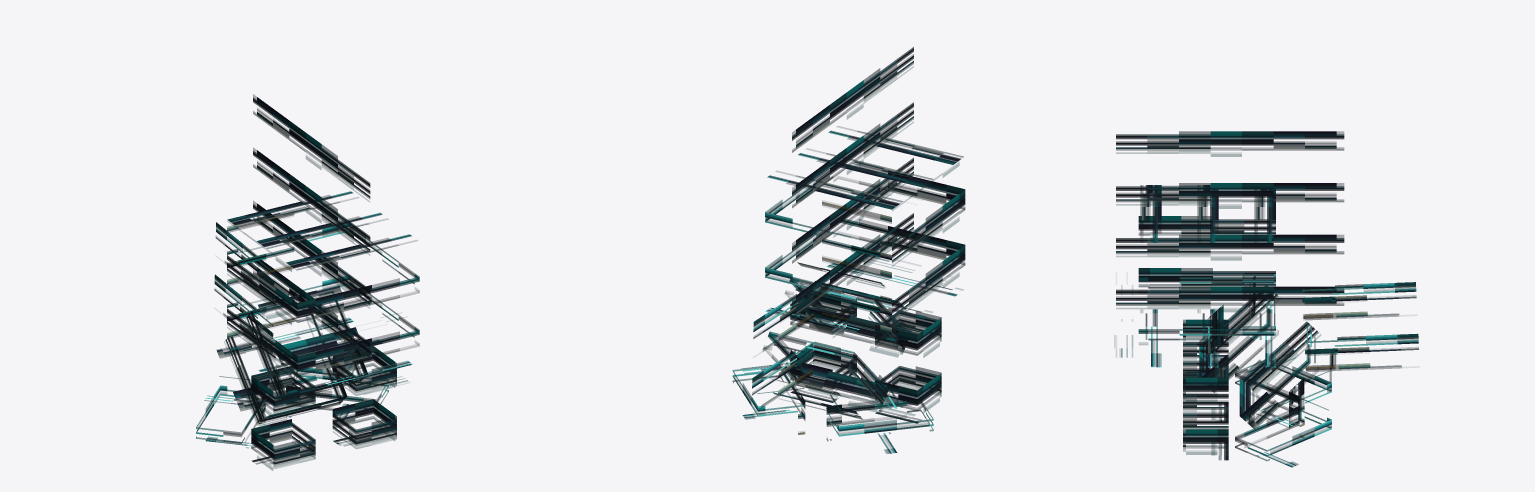
File: sl_deep_dark_dragon.glb
3 renders of one model, left to right at view 1: azimuth 30°, elevation 25°; view 2: azimuth 150°, elevation 25°; view 3: azimuth 270°, elevation 25°, orthographic. The views are drawn at different scales.
Visible parts, largest first — view 1: bb_deep_dark_dragon; view 2: bb_deep_dark_dragon; view 3: bb_deep_dark_dragon.
Part boxes in pixels (box(x1,y1,x2,y2)): bb_deep_dark_dragon: box(196, 94, 419, 470); bb_deep_dark_dragon: box(732, 47, 965, 453); bb_deep_dark_dragon: box(1114, 131, 1418, 467).
Size of the model in its own units: 1.25 by 0.971 by 1.17.
Materials: 1 (1 with a texture image).
